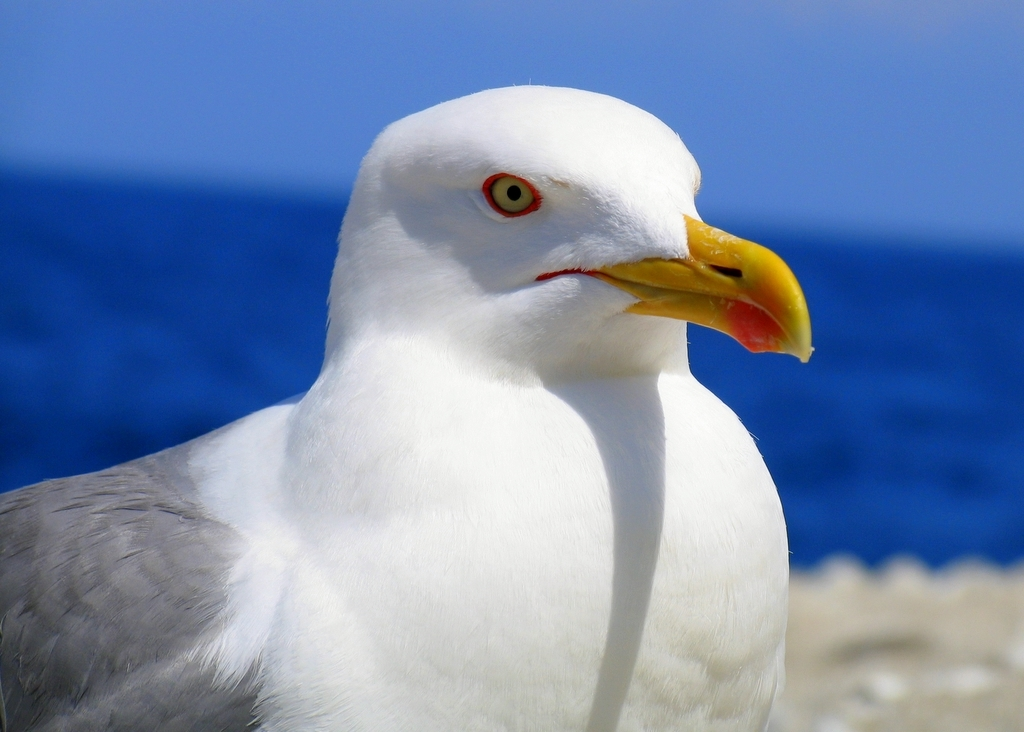Bird: (0, 78, 811, 730)
